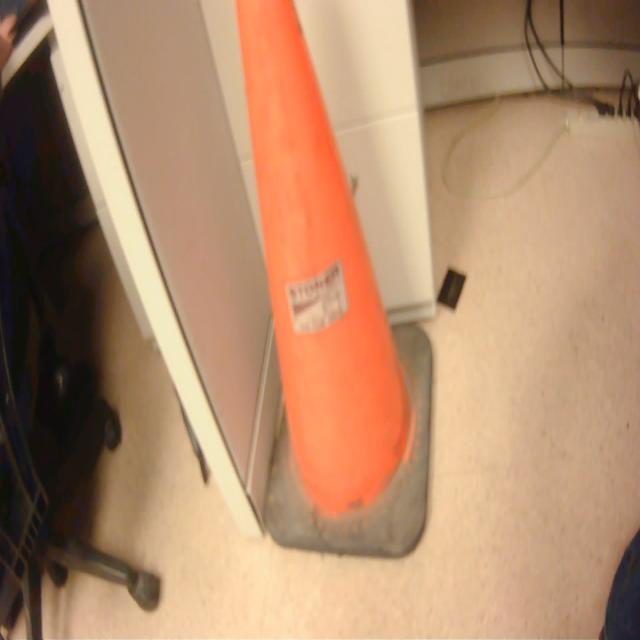traffic cone: (232, 1, 442, 576)
